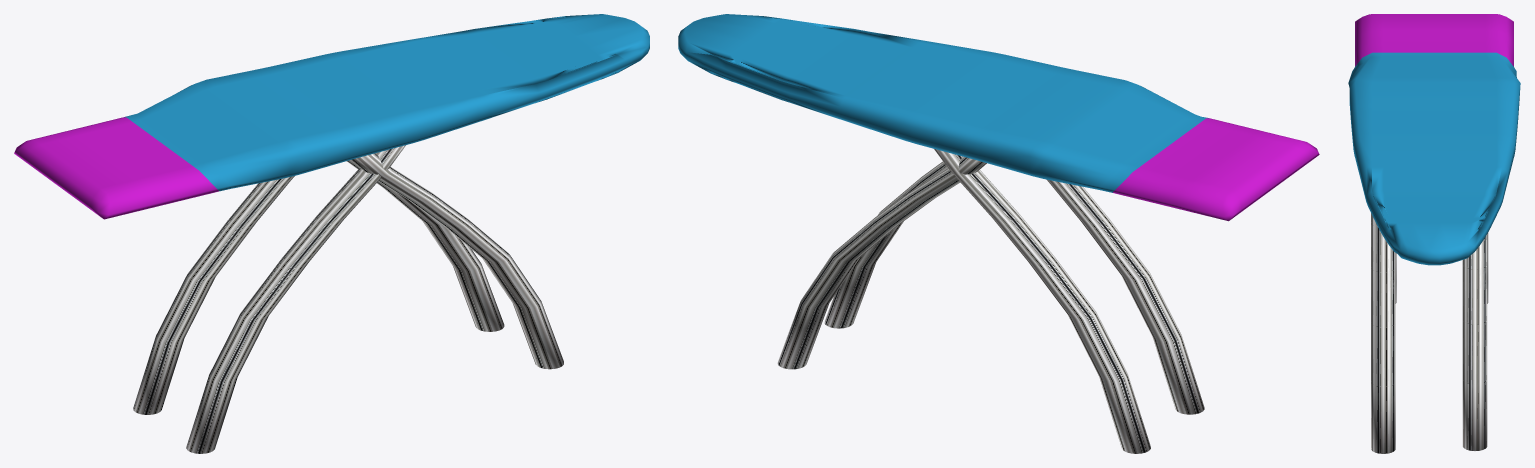
File: burro.obj
3 renders of one model, left to right at view 1: azimuth 30°, elevation 25°; view 2: azimuth 150°, elevation 25°; view 3: azimuth 270°, elevation 25°, orthographic. The views are drawn at different scales.
Visible parts, largest first — view 1: Box001, Cylinder001, Cylinder002, Object001, Object002; view 2: Box001, Cylinder002, Cylinder001, Object002, Object001; view 3: Box001, Object001, Object002.
Part boxes in pixels (left/top/right/bottom): Box001: left=14, top=14, right=649, bottom=219; Cylinder001: left=186, top=145, right=405, bottom=453; Cylinder002: left=133, top=176, right=294, bottom=414; Object001: left=351, top=153, right=563, bottom=369; Object002: left=346, top=160, right=504, bottom=331; Box001: left=678, top=14, right=1319, bottom=221; Cylinder002: left=934, top=149, right=1150, bottom=453; Cylinder001: left=1047, top=179, right=1204, bottom=414; Object002: left=777, top=156, right=986, bottom=369; Object001: left=824, top=161, right=947, bottom=328; Box001: left=1348, top=14, right=1520, bottom=265; Object001: left=1371, top=213, right=1395, bottom=453; Object002: left=1462, top=234, right=1487, bottom=450.
Bounding box in the file's own units: 71.31 × 34.02 × 20.98.
3 materials, 3 textured.
